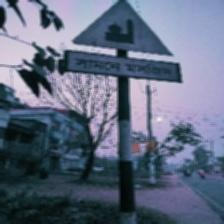Mosque in front: (66, 0, 178, 84)
